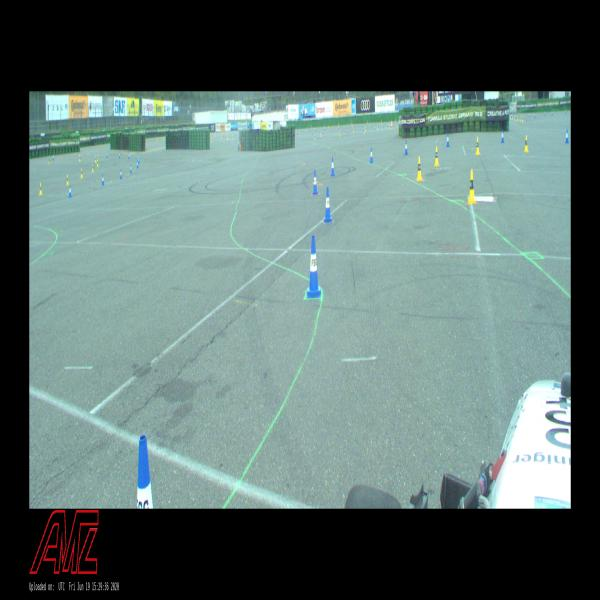blue_cone: (137, 434, 153, 508), (306, 235, 322, 298), (324, 188, 332, 222), (313, 170, 318, 194), (331, 157, 335, 176), (565, 129, 569, 144), (370, 147, 373, 163), (404, 140, 407, 155), (447, 133, 450, 147), (501, 129, 504, 143), (69, 185, 72, 198), (130, 164, 132, 174), (120, 169, 122, 179), (102, 175, 104, 185), (138, 157, 140, 164), (128, 153, 130, 159), (137, 160, 138, 168), (107, 151, 108, 158), (119, 152, 120, 158)
yellow_cone: (468, 170, 476, 204), (417, 156, 422, 180), (434, 146, 439, 166), (475, 137, 480, 155), (524, 135, 529, 152), (39, 183, 42, 195), (67, 174, 69, 185), (81, 168, 83, 178), (92, 163, 94, 172), (97, 159, 99, 167), (79, 154, 81, 162), (95, 156, 97, 163)
